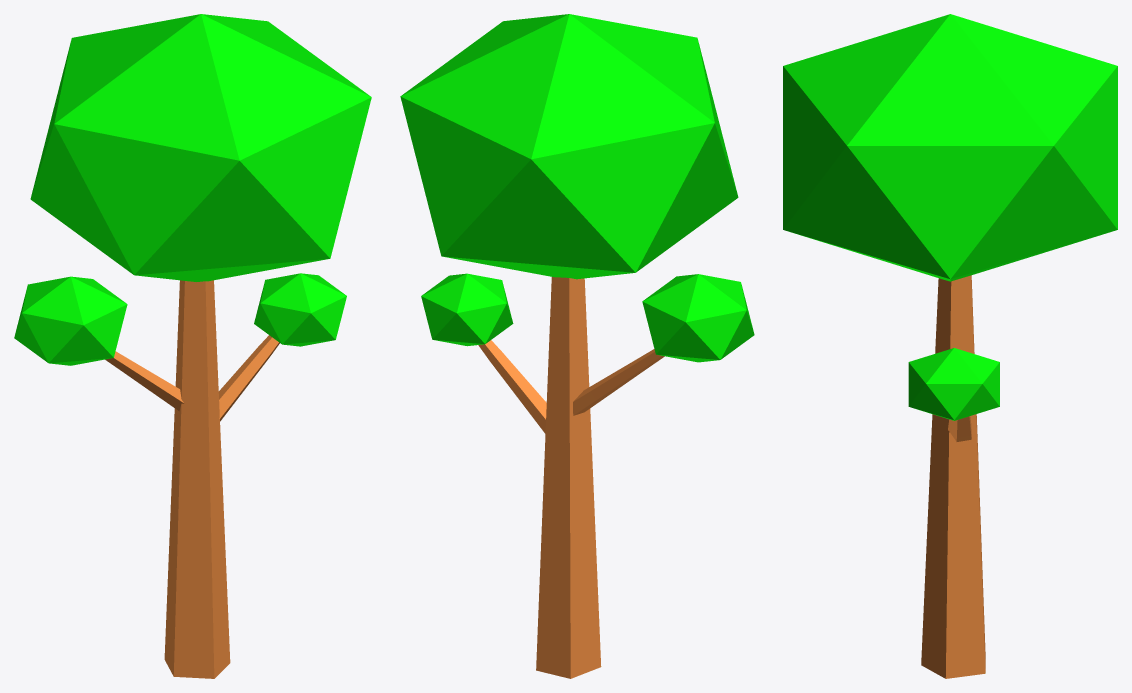
File: tree.fbx
3 views of the same model, side by side, from view 1: azimuth 30°, elevation 25°; view 2: azimuth 150°, elevation 25°; view 3: azimuth 270°, elevation 25° (orthographic).
Visible parts, largest first — view 1: Cylinder; view 2: Cylinder; view 3: Cylinder.
Part boxes in pixels (left/top/right/bottom): Cylinder: left=14, top=14, right=371, bottom=678; Cylinder: left=400, top=14, right=754, bottom=678; Cylinder: left=783, top=14, right=1117, bottom=678.
Size of the model in its own units: 2039 by 3908 by 1818.
Materials: 1 (1 with a texture image).
